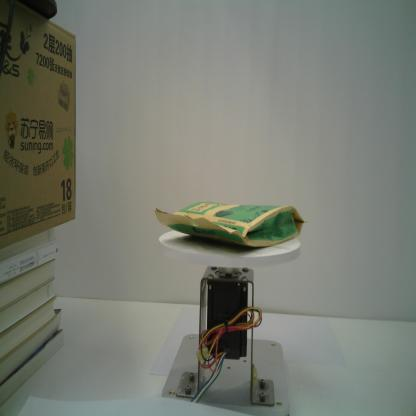Dried Food: (150, 195, 308, 252)
